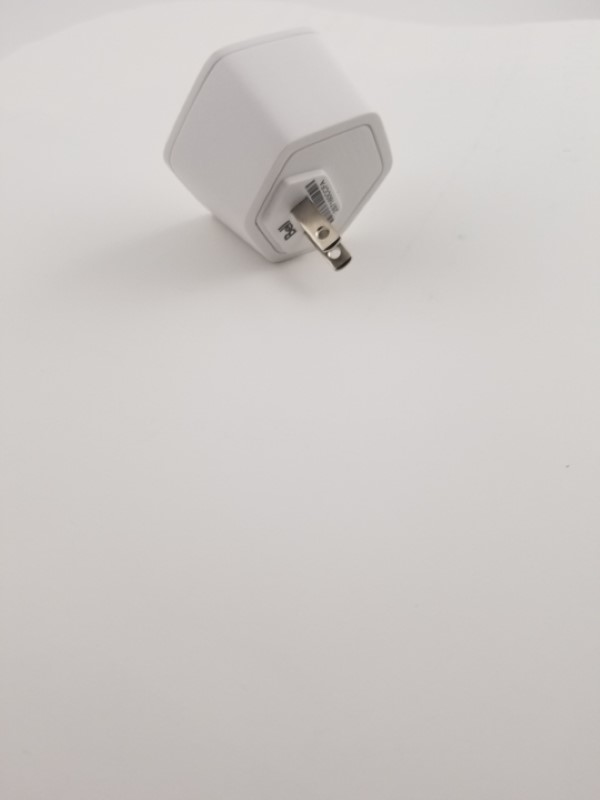pod: (161, 29, 400, 285)
